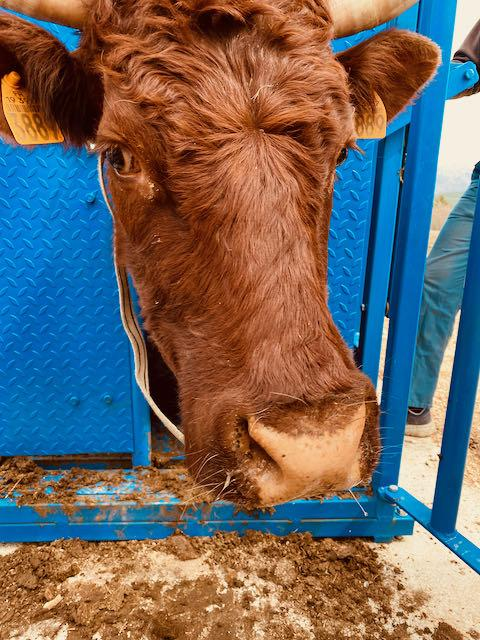muzzles: (174, 388, 387, 511)
